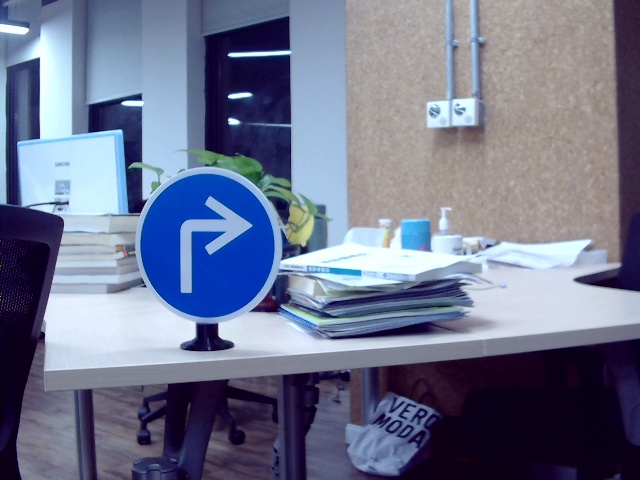turn_right: (174, 200, 251, 294)
